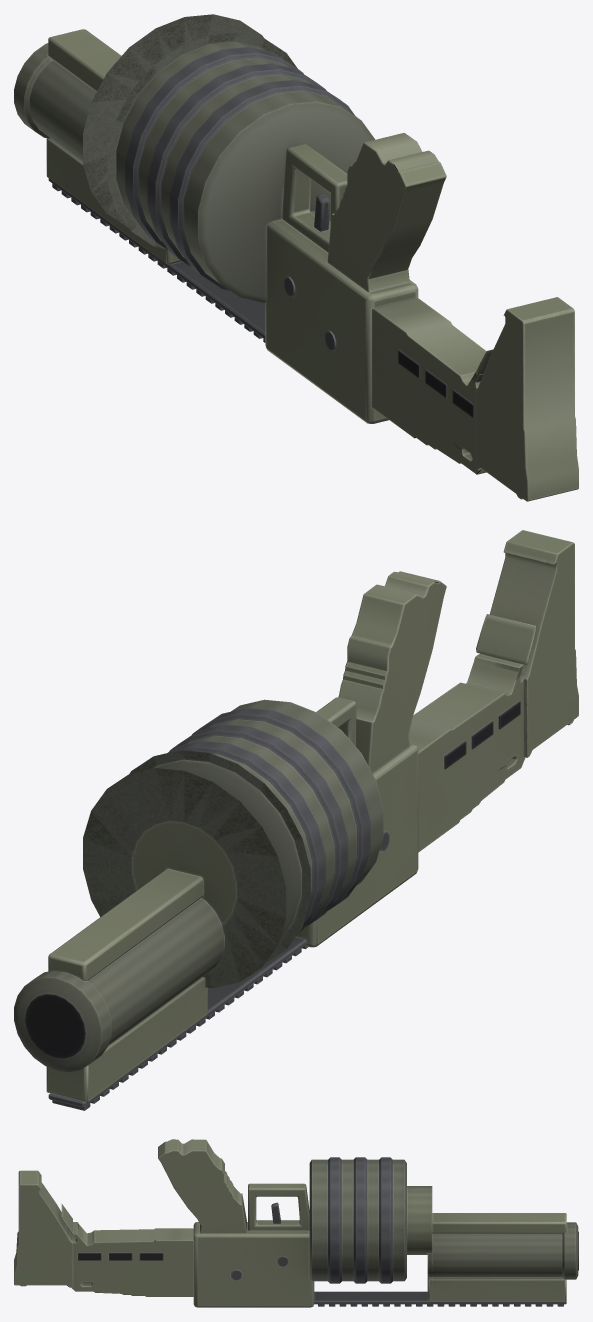
The model's file is AT_CycloneAGL.fbx.
The picture shows the model from 3 angles, top to bottom: view 1: azimuth 30°, elevation 25°; view 2: azimuth 150°, elevation 25°; view 3: azimuth 270°, elevation 25°; orthographic projection. The views are drawn at different scales.
Parts seen in each view (by area): view 1: AT_CycloneAGL_export; view 2: AT_CycloneAGL_export; view 3: AT_CycloneAGL_export.
Boxes of the visible parts, x1=… form: AT_CycloneAGL_export: x1=14, y1=14, x2=578, y2=501; AT_CycloneAGL_export: x1=14, y1=530, x2=578, y2=1110; AT_CycloneAGL_export: x1=14, y1=1139, x2=578, y2=1307.
Size of the model in its own units: 0.1176 by 0.4995 by 0.1535.
